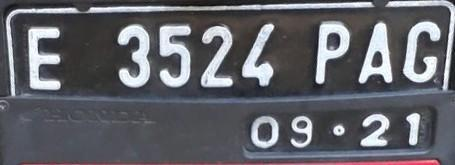clone-license-plate: (4, 4, 452, 161)
